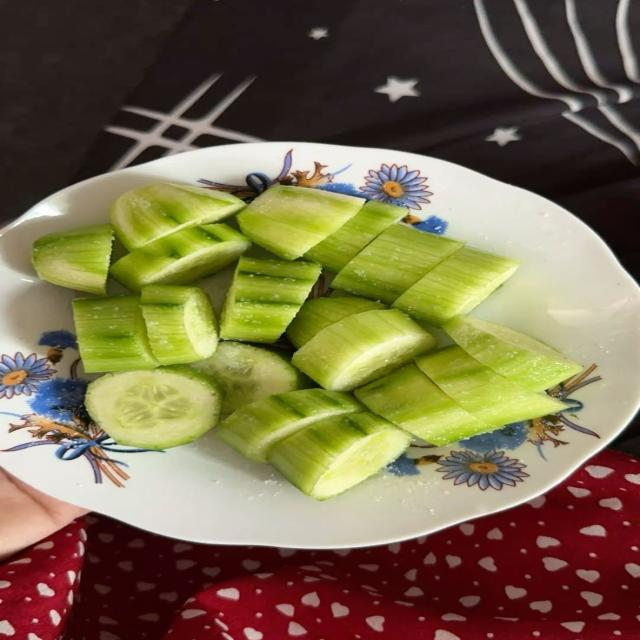cucumber sliced: (269, 413, 410, 500), (416, 346, 566, 427), (292, 310, 435, 390), (85, 366, 220, 450), (355, 364, 493, 445), (218, 389, 363, 461), (332, 225, 463, 303), (444, 317, 582, 391), (394, 247, 519, 325), (238, 185, 364, 259), (111, 224, 250, 291), (111, 183, 244, 250), (220, 257, 321, 342), (192, 342, 310, 414), (305, 201, 406, 272), (73, 296, 158, 372), (141, 285, 217, 365), (32, 225, 113, 295), (287, 298, 386, 348)
